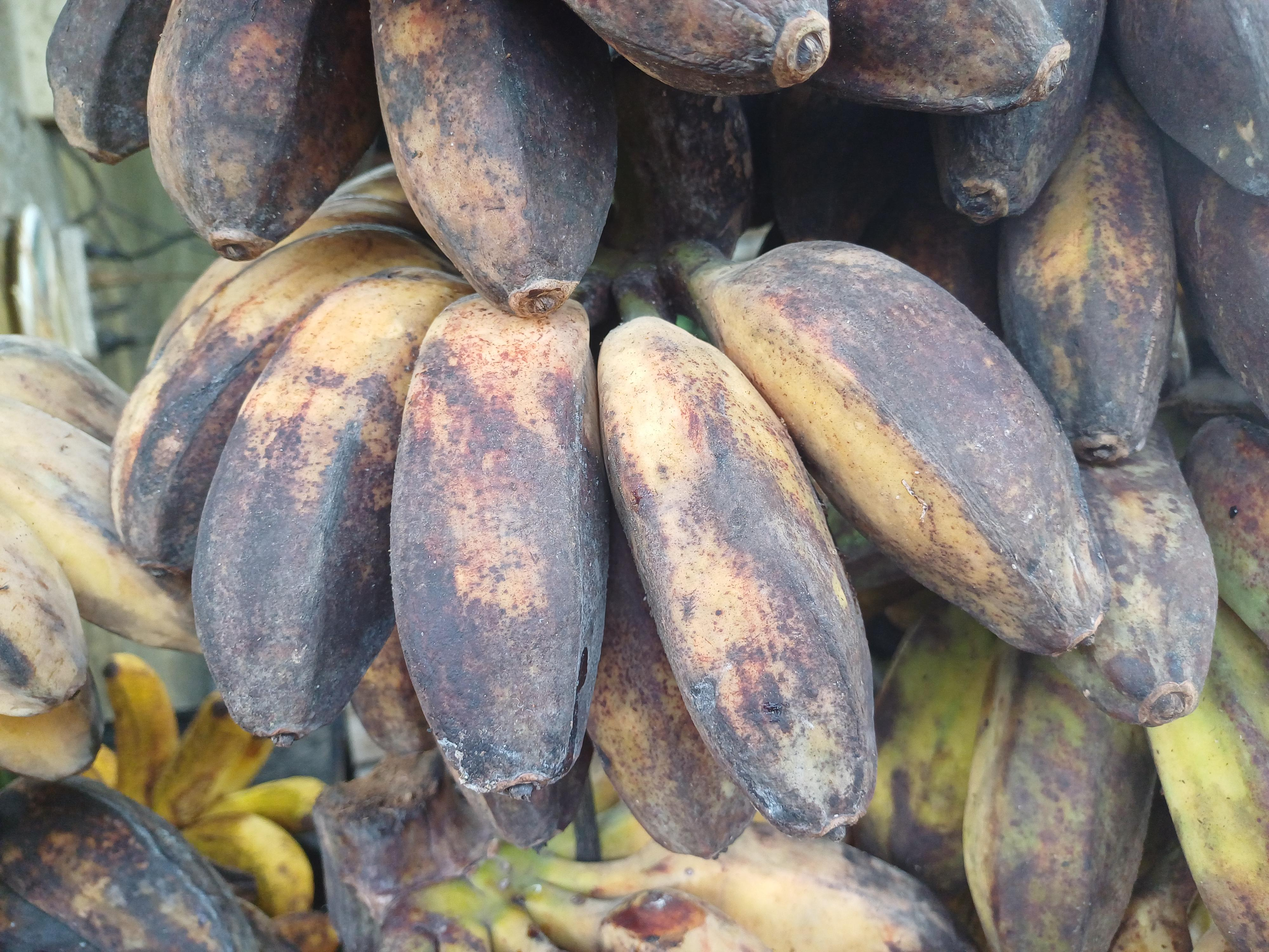overripe: (108, 163, 1112, 860), (45, 0, 1069, 315), (770, 0, 1269, 461)
ripe: (0, 335, 201, 717)
underripe: (849, 417, 1269, 952)
